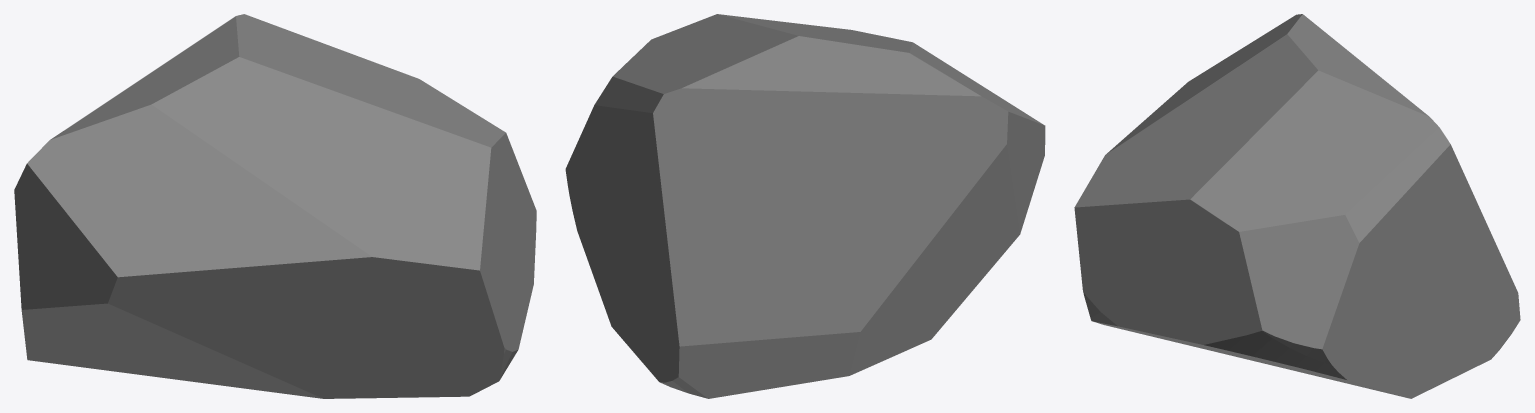
File: Pedra1.fbx
The picture shows the model from 3 angles, left to right: view 1: azimuth 30°, elevation 25°; view 2: azimuth 150°, elevation 25°; view 3: azimuth 270°, elevation 25°; orthographic projection. The views are drawn at different scales.
Visible parts, largest first — view 1: Sphere.002; view 2: Sphere.002; view 3: Sphere.002.
Part boxes in pixels (x1,y1,x2,y2): Sphere.002: (14, 14, 536, 398); Sphere.002: (565, 14, 1045, 398); Sphere.002: (1074, 14, 1520, 398).
Bounding box in the file's own units: 263 × 166 × 251.
